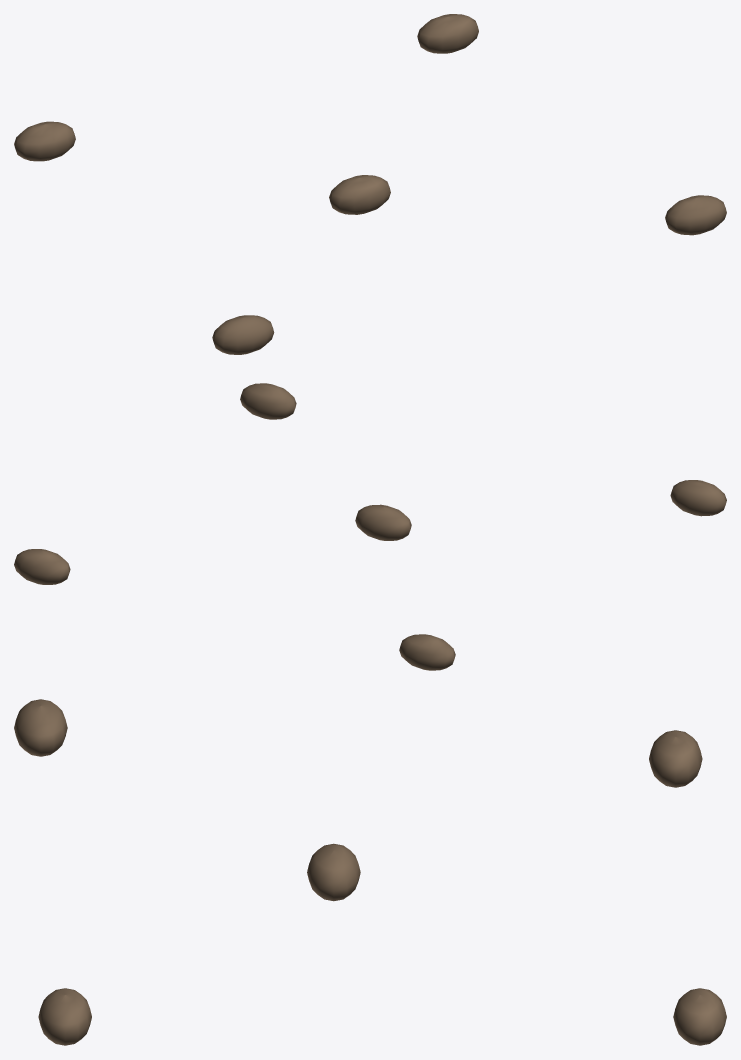
The model's file is lavender_seed.glb.
3 views of the same model, one above another, from view 1: azimuth 30°, elevation 25°; view 2: azimuth 150°, elevation 25°; view 3: azimuth 270°, elevation 25° (orthographic). The views are drawn at different scales.
Visible parts, largest first — view 1: seeds.002; view 2: seeds.002; view 3: seeds.002.
Part boxes in pixels (<box>): seeds.002: <box>14,14,726,354</box>; seeds.002: <box>14,383,726,670</box>; seeds.002: <box>14,699,726,1045</box>.
Size of the model in its own units: 0.316 by 0.02 by 0.292.
